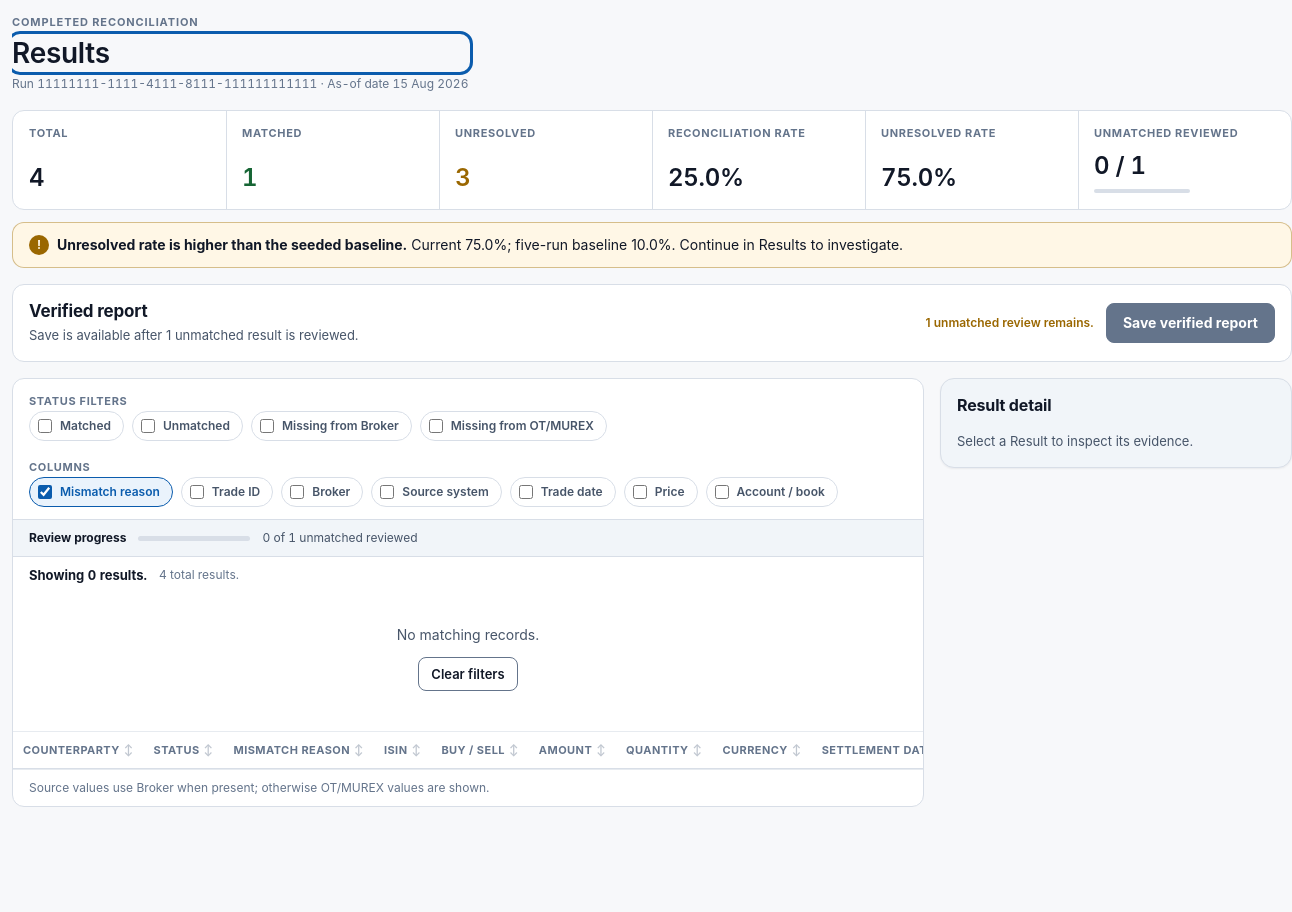
Test: Results workspace table › keeps active filters visible and clears an empty result set
Expected: the text "No matching records." is shown, [397,625,539,645]
Click the button "Clear filters". click: (468, 674)
box: [418,657,518,691]
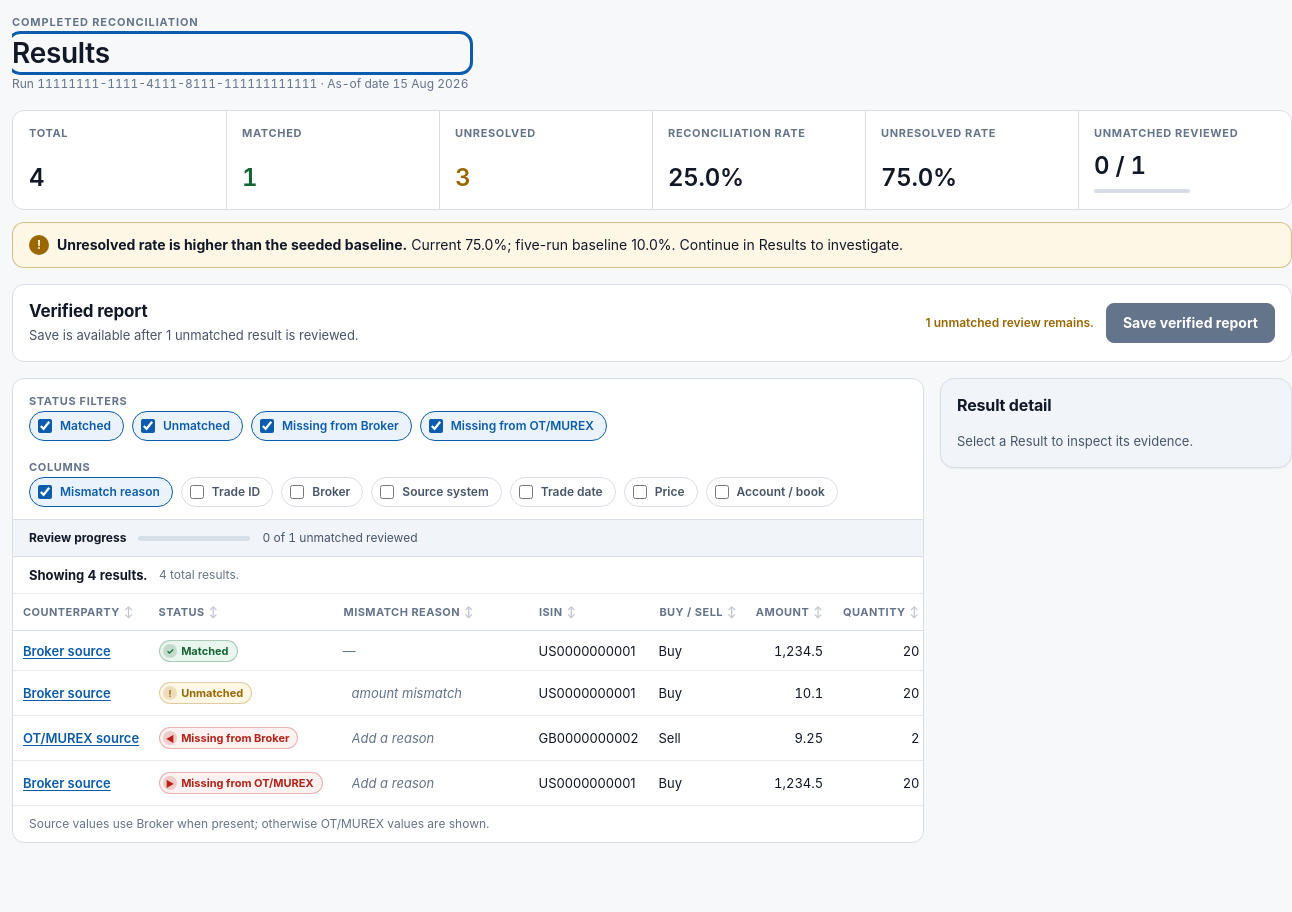
Expected: the text "Showing 4 results." is shown, [29,565,147,585]
